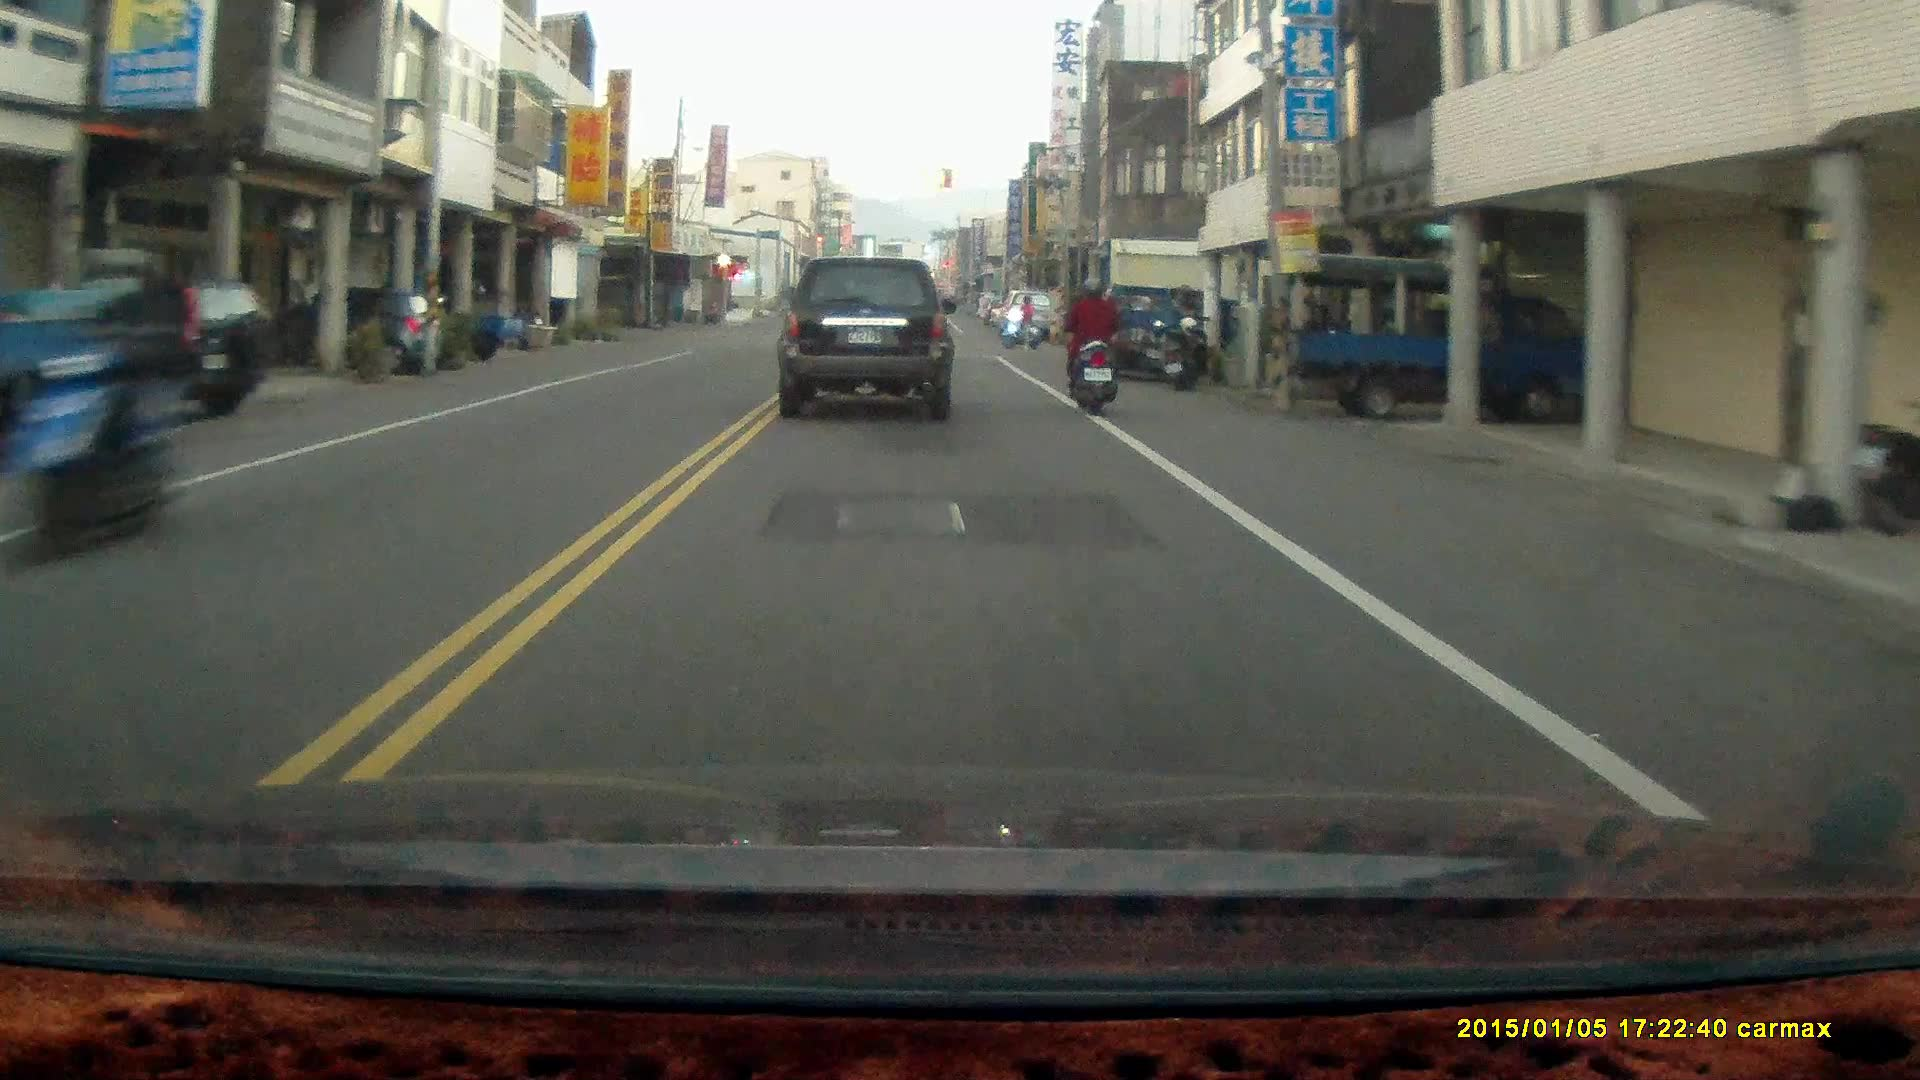rider: (0, 245, 210, 564), (1065, 274, 1119, 418), (998, 294, 1039, 347)
vehicle: (1291, 257, 1609, 425), (32, 271, 276, 421), (776, 256, 957, 426), (268, 282, 443, 375), (1085, 280, 1199, 381)
